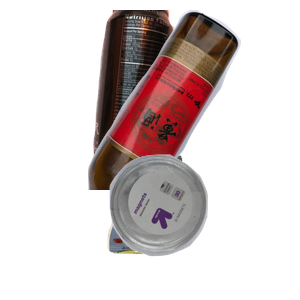glass: (85, 10, 300, 190)
metal: (91, 10, 258, 188)
plastic: (107, 152, 300, 300)
trash: (105, 152, 280, 300)
